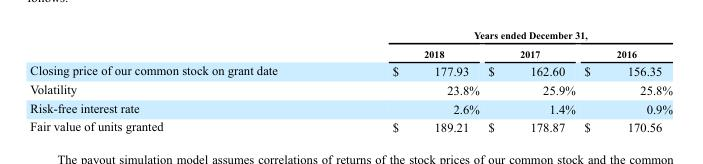table: (29, 28, 671, 133)
table column: (29, 28, 334, 133), (334, 28, 483, 133), (483, 28, 579, 133), (579, 28, 671, 133)
table column header: (29, 28, 671, 60)
table row: (29, 60, 671, 79), (29, 79, 671, 98), (29, 98, 671, 117), (29, 43, 671, 60), (29, 117, 671, 133), (29, 28, 671, 43)
table spanning cell: (334, 28, 671, 43)
